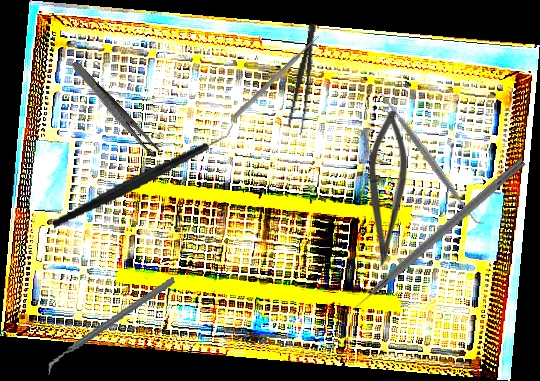Chopper: (43, 117, 243, 231), (33, 277, 188, 375)
Dressing Forceps: (67, 59, 163, 160), (286, 22, 322, 136)
Hook Surgical: (339, 156, 527, 322)
Micro Scissor: (368, 110, 408, 268)
Pusher: (232, 32, 322, 121)
Spatula Surgical: (373, 85, 487, 233)
